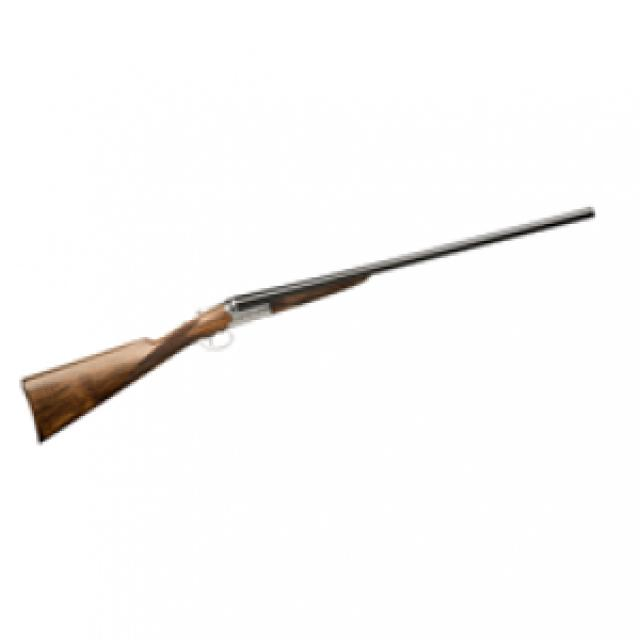rifle: (19, 202, 600, 447)
